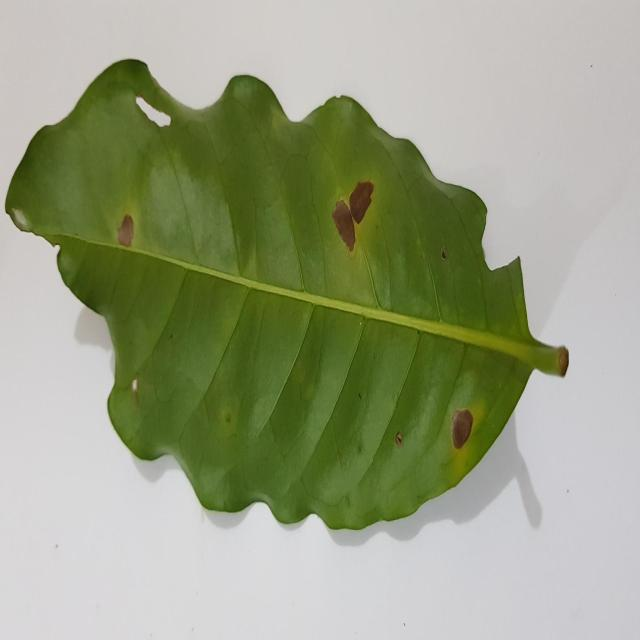Enfermedad-Mancha-de-hierro: (4, 60, 571, 534)
